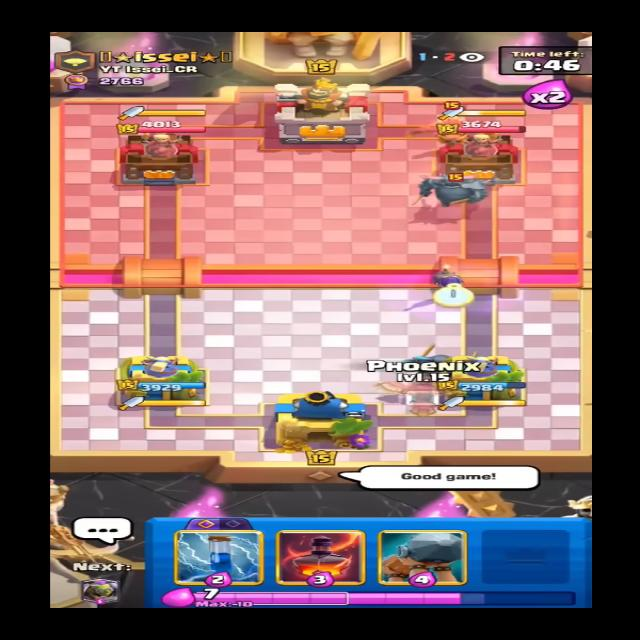Pekka: (408, 170, 493, 209)
Pheonix: (408, 102, 506, 141)
